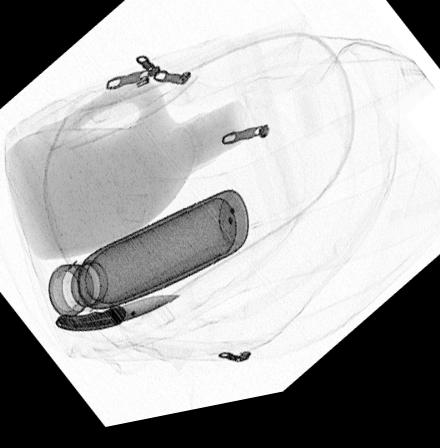Knife: (50, 299, 181, 336)
